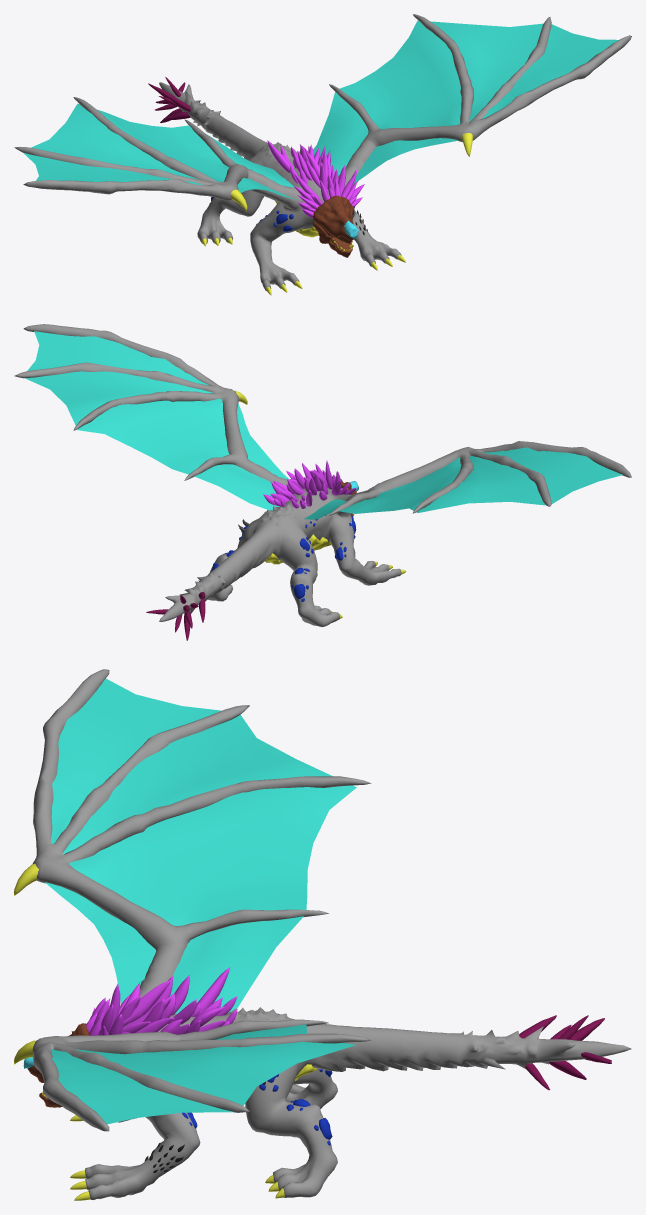
Rendered from SM_Dragon.FBX.
The picture shows the model from 3 angles, top to bottom: view 1: azimuth 30°, elevation 25°; view 2: azimuth 150°, elevation 25°; view 3: azimuth 270°, elevation 25°; orthographic projection. The views are drawn at different scales.
Visible parts, largest first — view 1: SM_Creature11; view 2: SM_Creature11; view 3: SM_Creature11.
Part boxes in pixels (bbox=[...]): SM_Creature11: bbox=[14, 14, 631, 295]; SM_Creature11: bbox=[14, 324, 631, 640]; SM_Creature11: bbox=[14, 669, 631, 1200].
Size of the model in its own units: 8465 by 2233 by 4794.
